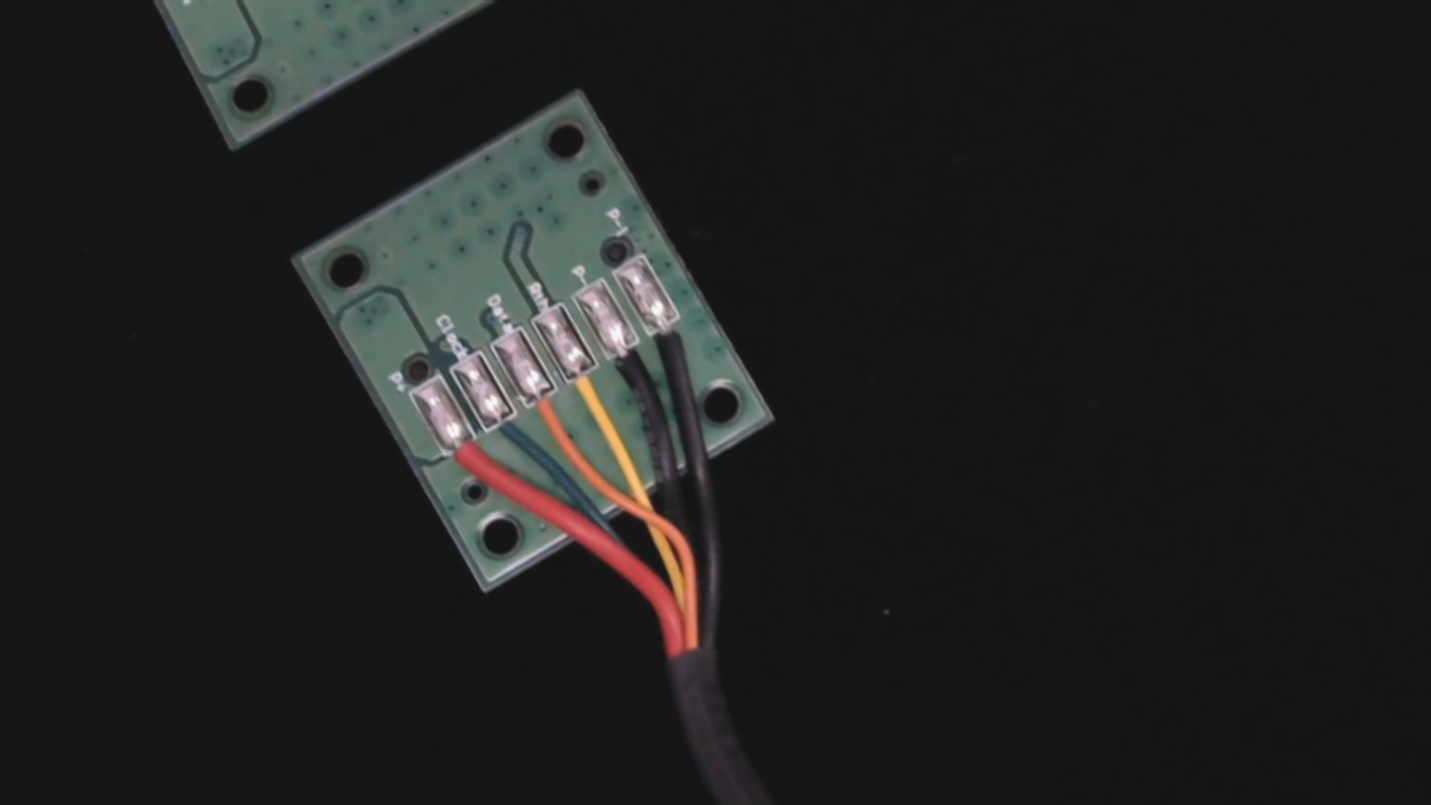Black: (590, 325, 674, 414)
Black1: (635, 299, 717, 388)
Green: (472, 395, 544, 474)
Orange: (512, 373, 587, 456)
Red: (430, 420, 505, 501)
Yellow: (551, 349, 631, 436)
